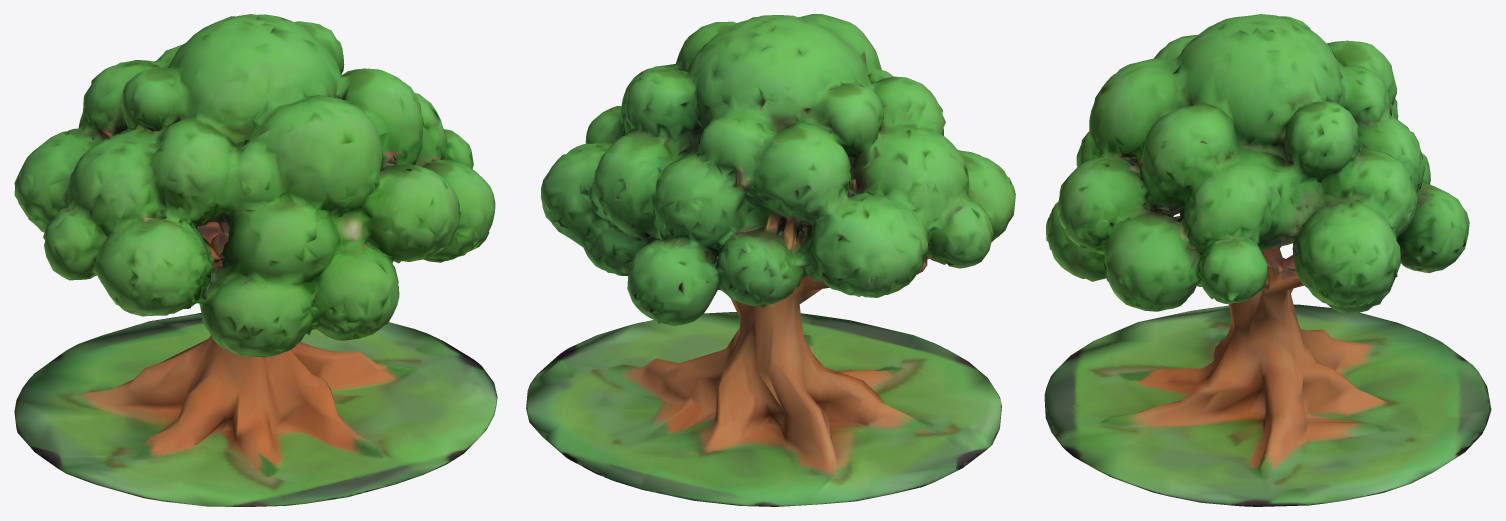
The model's file is forest_tree.glb.
3 renders of one model, left to right at view 1: azimuth 30°, elevation 25°; view 2: azimuth 150°, elevation 25°; view 3: azimuth 270°, elevation 25°, orthographic. The views are drawn at different scales.
Size of the model in its own units: 2 by 1.83 by 1.85.
Materials: 1 (1 with a texture image).
